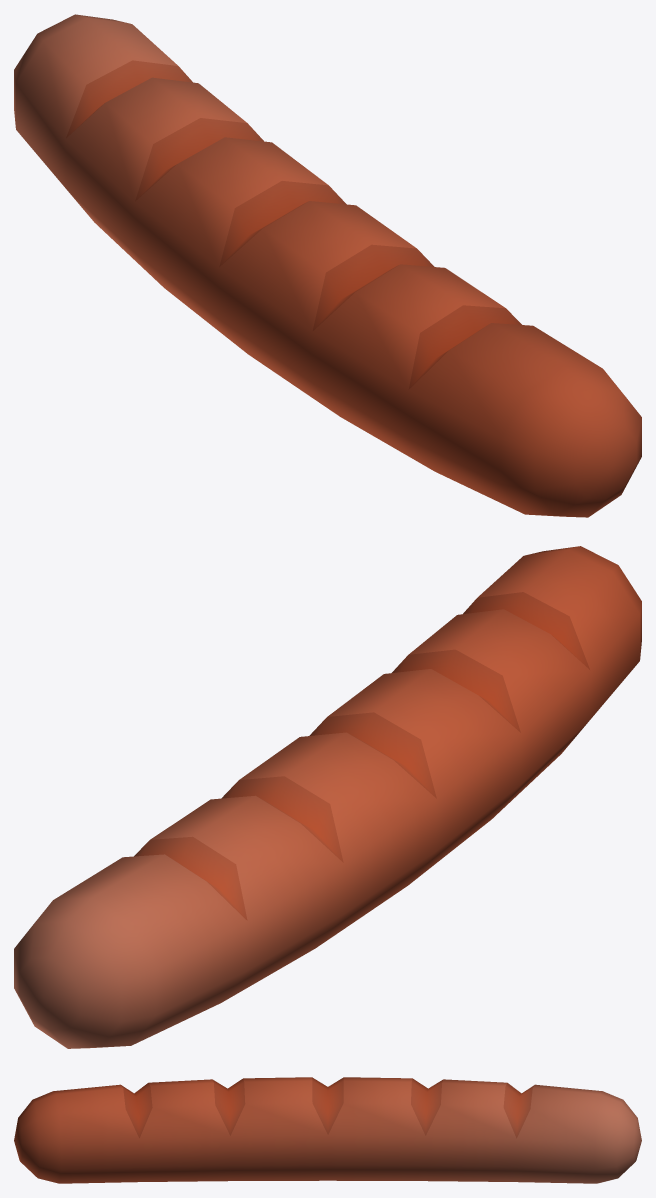
The model's file is sasuage_007.fbx.
3 views of the same model, one above another, from view 1: azimuth 30°, elevation 25°; view 2: azimuth 150°, elevation 25°; view 3: azimuth 270°, elevation 25° (orthographic). The views are drawn at different scales.
Parts seen in each view (by area): view 1: sasuage_007; view 2: sasuage_007; view 3: sasuage_007.
Part boxes in pixels (x1,y1,x2,y2): sasuage_007: (14,14,641,517); sasuage_007: (14,546,641,1048); sasuage_007: (14,1077,641,1183).
Bounding box in the file's own units: 3.29 × 17.96 × 3.03.
